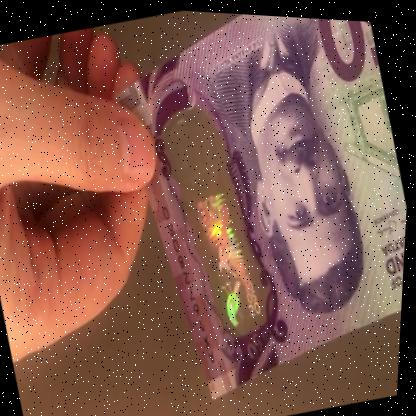50F: (160, 108, 280, 334)
